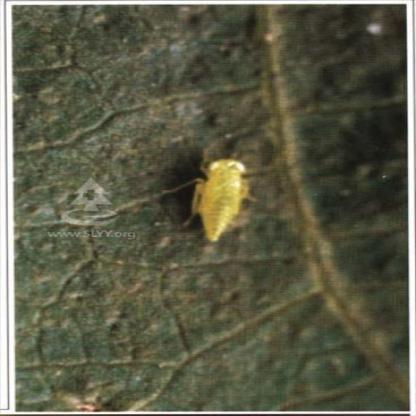Green-Leafhopper: (174, 144, 255, 247)
